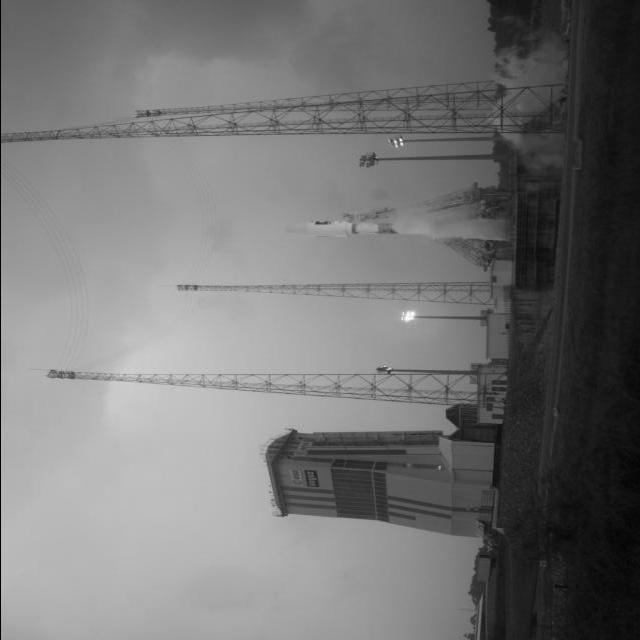missile: (283, 220, 399, 237)
